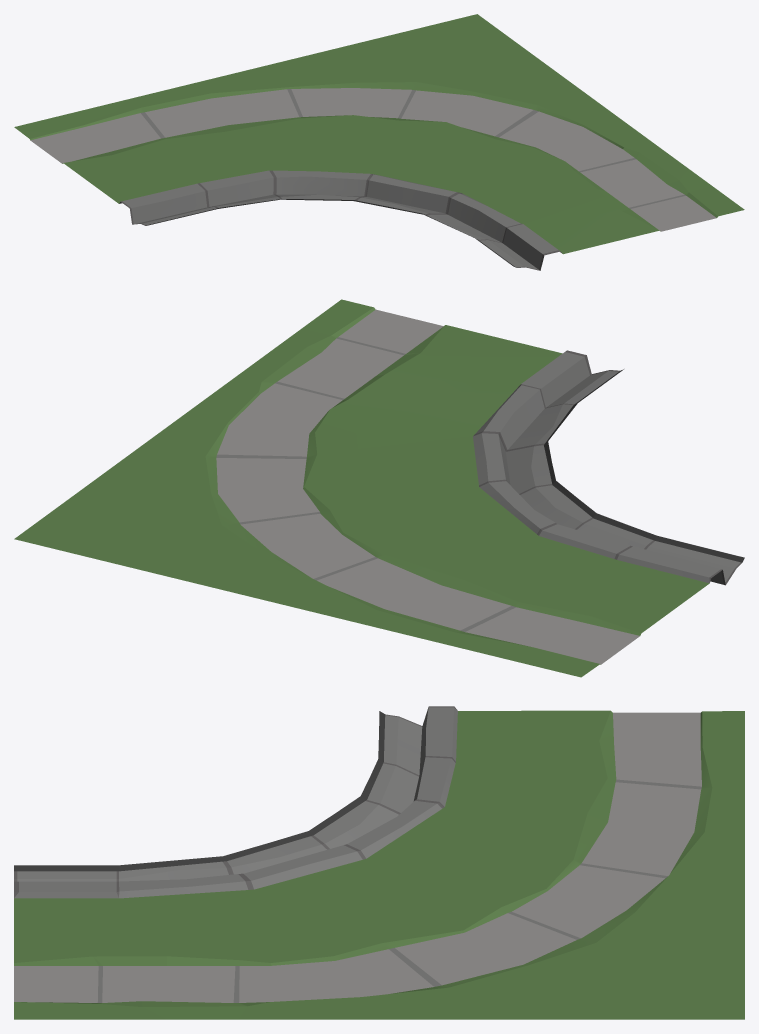
The model's file is SM_Env_Sidewalk_Corner_End_02.fbx.
3 renders of one model, top to bottom at view 1: azimuth 30°, elevation 25°; view 2: azimuth 150°, elevation 25°; view 3: azimuth 270°, elevation 25°, orthographic. The views are drawn at different scales.
Parts seen in each view (by area): view 1: SM_Env_Sidewalk_Corner_End_02; view 2: SM_Env_Sidewalk_Corner_End_02; view 3: SM_Env_Sidewalk_Corner_End_02.
Part boxes in pixels (left/top/right/bottom): SM_Env_Sidewalk_Corner_End_02: left=14, top=14, right=744, bottom=270; SM_Env_Sidewalk_Corner_End_02: left=14, top=299, right=744, bottom=677; SM_Env_Sidewalk_Corner_End_02: left=14, top=706, right=744, bottom=1019.
Size of the model in its own units: 1000 by 30 by 1000.
